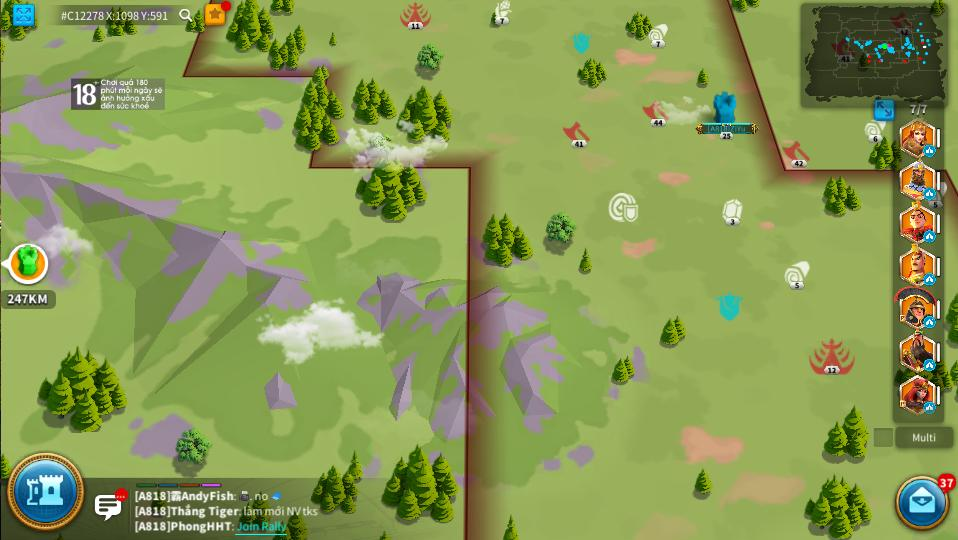gem-z-out: (721, 199, 743, 224)
march_idle: (924, 359, 935, 371), (924, 403, 936, 414), (924, 145, 935, 156), (924, 231, 935, 242), (925, 188, 935, 199), (925, 274, 935, 284), (925, 317, 935, 327)
